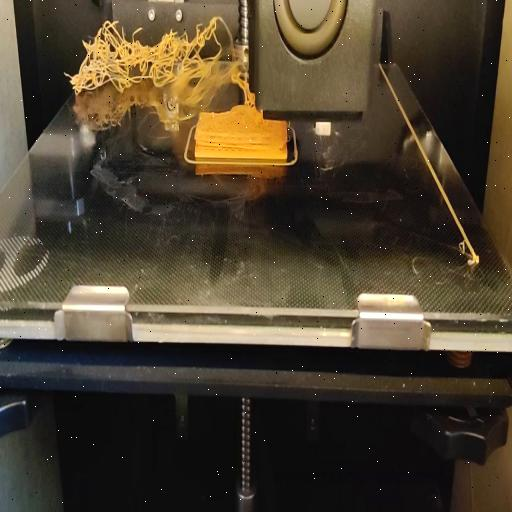spaghetti: (64, 16, 238, 100)
